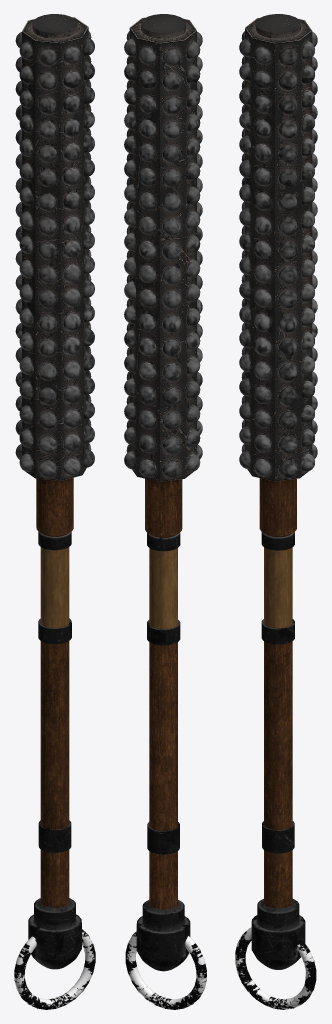
The model's file is Kanabo_LOW.fbx.
The picture shows the model from 3 angles, left to right: view 1: azimuth 30°, elevation 25°; view 2: azimuth 150°, elevation 25°; view 3: azimuth 330°, elevation 25°; orthographic projection.
Parts seen in each view (by area): view 1: Kanabo_LOW; view 2: Kanabo_LOW; view 3: Kanabo_LOW.
Boxes of the visible parts, <box> form: Kanabo_LOW: <box>14,14,95,1009</box>; Kanabo_LOW: <box>124,14,206,1009</box>; Kanabo_LOW: <box>235,14,317,1009</box>.
Bounding box in the file's own units: 1.9 × 22.38 × 1.67.
